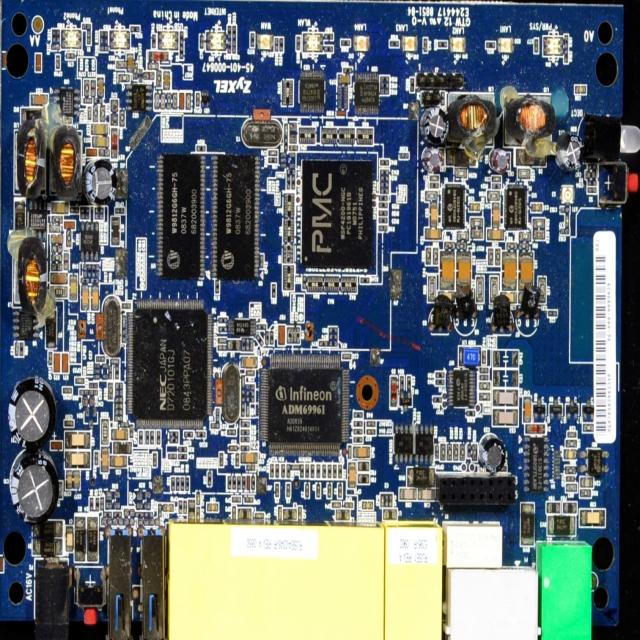Capacitor Jumper: (503, 252, 518, 291), (518, 253, 533, 289), (64, 452, 92, 468), (580, 510, 607, 526), (64, 433, 92, 448), (492, 412, 518, 426), (494, 392, 519, 406), (100, 447, 110, 475), (68, 273, 78, 300), (522, 396, 532, 423), (65, 524, 74, 553), (501, 288, 517, 304), (352, 444, 369, 458), (90, 289, 100, 312), (111, 454, 127, 468), (111, 428, 128, 441), (92, 136, 110, 148), (399, 488, 417, 500), (348, 462, 356, 488), (80, 288, 89, 311), (51, 273, 68, 285), (418, 489, 433, 502), (30, 94, 46, 106), (239, 358, 258, 368), (487, 230, 505, 240), (52, 202, 68, 213), (72, 469, 80, 491), (530, 202, 544, 214), (430, 206, 438, 227), (493, 204, 500, 228), (242, 454, 258, 464), (272, 480, 280, 500), (50, 234, 64, 245), (65, 469, 72, 491), (91, 126, 108, 135), (424, 230, 442, 238), (337, 75, 351, 85), (478, 382, 492, 392), (564, 450, 578, 460), (580, 480, 594, 490), (127, 53, 134, 72), (98, 76, 104, 98), (574, 86, 587, 96), (361, 499, 374, 509), (163, 71, 170, 89), (207, 503, 219, 513), (478, 393, 491, 402), (316, 483, 323, 499), (439, 148, 445, 166), (422, 36, 428, 53), (285, 483, 291, 500), (468, 204, 480, 212), (326, 483, 332, 499), (194, 92, 200, 107), (260, 252, 265, 269), (566, 431, 578, 438), (337, 484, 343, 498), (342, 352, 352, 360), (227, 428, 237, 436), (163, 504, 174, 511), (305, 483, 310, 498), (480, 366, 489, 374), (87, 106, 92, 120), (289, 144, 299, 151), (228, 444, 238, 451), (153, 453, 158, 467), (183, 499, 188, 513), (268, 150, 279, 156), (491, 176, 502, 182), (547, 310, 558, 316), (74, 378, 85, 384), (347, 445, 352, 458), (14, 342, 18, 358), (217, 336, 226, 343), (479, 374, 489, 380), (100, 496, 104, 511), (330, 502, 340, 508), (278, 507, 282, 522), (200, 34, 204, 48), (116, 408, 123, 416), (565, 477, 576, 482), (430, 175, 439, 181), (168, 453, 177, 459), (66, 53, 75, 59), (129, 424, 133, 437), (366, 421, 376, 426), (84, 98, 92, 104), (284, 124, 288, 136), (218, 345, 226, 351), (210, 423, 218, 429), (534, 40, 538, 52), (115, 416, 124, 421), (197, 491, 200, 506), (247, 371, 255, 376), (115, 397, 123, 402), (120, 423, 128, 428), (366, 430, 376, 434), (112, 359, 120, 363), (116, 404, 122, 409), (247, 340, 249, 351)
Connector: (172, 522, 443, 640), (110, 529, 168, 640), (35, 556, 70, 640)
IC: (130, 303, 211, 425), (301, 158, 377, 273), (261, 354, 347, 454), (212, 155, 259, 280), (158, 154, 204, 281), (524, 438, 548, 492), (298, 70, 326, 113), (353, 73, 381, 115), (450, 367, 475, 408), (443, 184, 465, 227), (505, 185, 526, 230), (54, 82, 79, 118), (414, 423, 434, 468), (78, 221, 100, 261), (580, 448, 609, 475), (13, 310, 39, 340), (394, 424, 414, 463), (27, 202, 47, 240), (126, 85, 151, 113), (228, 319, 256, 333), (202, 91, 210, 107)
Resistor Jumper: (538, 277, 547, 303), (476, 275, 484, 303), (490, 277, 498, 300), (454, 167, 469, 179), (429, 276, 436, 301), (487, 190, 500, 202), (533, 218, 546, 230), (424, 191, 438, 202), (470, 217, 483, 228), (519, 230, 533, 240), (485, 39, 496, 51), (456, 231, 469, 241), (118, 73, 132, 82), (518, 168, 530, 178), (582, 424, 594, 434), (433, 247, 439, 266), (295, 33, 301, 52), (172, 92, 178, 110), (534, 230, 546, 239), (432, 395, 444, 404), (434, 444, 440, 462), (100, 105, 106, 122), (66, 230, 72, 247), (249, 31, 255, 48), (440, 444, 446, 461), (438, 40, 448, 50), (255, 336, 264, 347), (340, 39, 351, 48), (90, 81, 96, 97), (154, 92, 160, 108), (425, 248, 431, 264), (214, 280, 220, 296), (19, 340, 25, 356), (564, 467, 576, 475), (315, 463, 321, 479), (580, 491, 592, 499), (448, 443, 453, 462), (472, 443, 477, 462), (565, 441, 578, 448), (472, 228, 482, 237), (495, 247, 500, 265), (170, 474, 175, 492), (379, 159, 390, 167), (505, 242, 516, 250), (457, 242, 468, 250), (519, 242, 530, 250), (352, 428, 363, 436), (195, 430, 206, 438), (157, 70, 162, 87), (84, 79, 89, 96), (488, 248, 493, 265), (443, 242, 455, 249), (406, 375, 412, 389), (322, 464, 328, 478), (218, 325, 227, 334), (218, 316, 228, 324), (435, 370, 445, 378), (151, 34, 156, 50), (352, 436, 362, 444), (207, 472, 212, 488), (227, 474, 232, 490), (251, 475, 256, 491), (324, 45, 334, 53), (379, 189, 390, 196), (52, 217, 63, 224), (51, 255, 62, 262), (81, 23, 92, 30), (317, 340, 328, 347), (120, 111, 125, 126), (280, 462, 285, 477), (242, 476, 247, 491), (342, 66, 354, 72), (410, 75, 414, 93), (329, 326, 338, 334), (455, 442, 459, 460), (270, 462, 274, 480), (206, 474, 212, 486), (196, 145, 206, 152), (80, 206, 85, 220), (257, 324, 267, 331), (435, 379, 445, 386), (169, 431, 179, 438), (390, 40, 400, 47), (332, 464, 337, 478), (89, 497, 94, 511), (272, 282, 276, 299), (130, 26, 141, 32), (352, 412, 363, 418), (240, 446, 251, 452), (138, 430, 143, 443), (161, 93, 165, 109), (109, 383, 113, 399), (176, 476, 180, 492), (361, 278, 370, 285), (354, 421, 363, 428), (148, 63, 158, 69), (134, 64, 138, 79), (187, 94, 191, 109), (94, 106, 98, 121), (380, 169, 390, 175), (378, 203, 388, 209), (95, 207, 100, 219), (86, 206, 90, 221), (378, 226, 388, 232), (241, 339, 246, 351), (324, 34, 334, 40), (86, 30, 90, 45), (216, 407, 220, 422), (240, 421, 250, 427), (240, 430, 250, 436), (156, 430, 160, 445), (240, 437, 250, 443), (310, 463, 314, 478), (338, 464, 342, 479), (306, 464, 310, 479), (300, 466, 305, 478), (179, 499, 183, 514), (461, 442, 464, 461), (287, 168, 295, 175), (270, 331, 274, 345), (265, 332, 269, 346), (52, 29, 56, 43), (564, 34, 568, 48), (150, 431, 154, 445), (280, 38, 284, 52), (232, 40, 236, 54), (227, 40, 231, 54), (328, 464, 332, 478), (186, 476, 190, 490), (136, 511, 144, 518), (564, 50, 568, 64), (268, 158, 279, 163), (380, 91, 389, 97), (167, 92, 170, 110), (378, 211, 387, 217), (329, 334, 338, 340), (275, 34, 278, 52), (184, 431, 193, 437), (178, 454, 187, 460), (51, 44, 60, 50), (113, 512, 122, 518), (286, 177, 290, 190), (92, 264, 96, 277), (100, 31, 104, 44), (115, 367, 119, 380), (145, 431, 149, 444), (179, 47, 183, 60), (380, 175, 390, 180), (380, 183, 390, 188), (168, 438, 178, 443), (382, 76, 390, 82), (284, 138, 288, 150), (100, 207, 104, 219), (90, 278, 98, 284), (400, 373, 403, 389), (247, 391, 255, 397), (241, 390, 245, 402), (241, 404, 245, 416), (287, 463, 290, 479), (233, 474, 236, 490), (237, 475, 240, 491), (492, 184, 501, 189), (178, 446, 187, 451), (467, 443, 470, 458), (96, 496, 99, 511), (250, 339, 254, 350), (88, 263, 91, 277), (105, 31, 108, 45), (276, 464, 279, 478), (181, 476, 184, 490), (379, 220, 389, 224), (329, 341, 337, 346), (88, 384, 98, 388), (245, 398, 255, 402), (292, 177, 295, 190), (303, 276, 306, 289), (228, 26, 231, 39), (180, 31, 183, 44), (380, 85, 389, 89), (430, 184, 439, 188), (379, 197, 388, 201), (233, 26, 236, 38), (100, 46, 109, 50), (103, 512, 112, 516), (82, 279, 89, 284), (140, 70, 142, 84), (58, 29, 60, 43)
Transistor: (565, 399, 578, 422), (548, 400, 562, 421), (534, 397, 546, 421), (398, 391, 412, 410), (583, 398, 593, 422)
